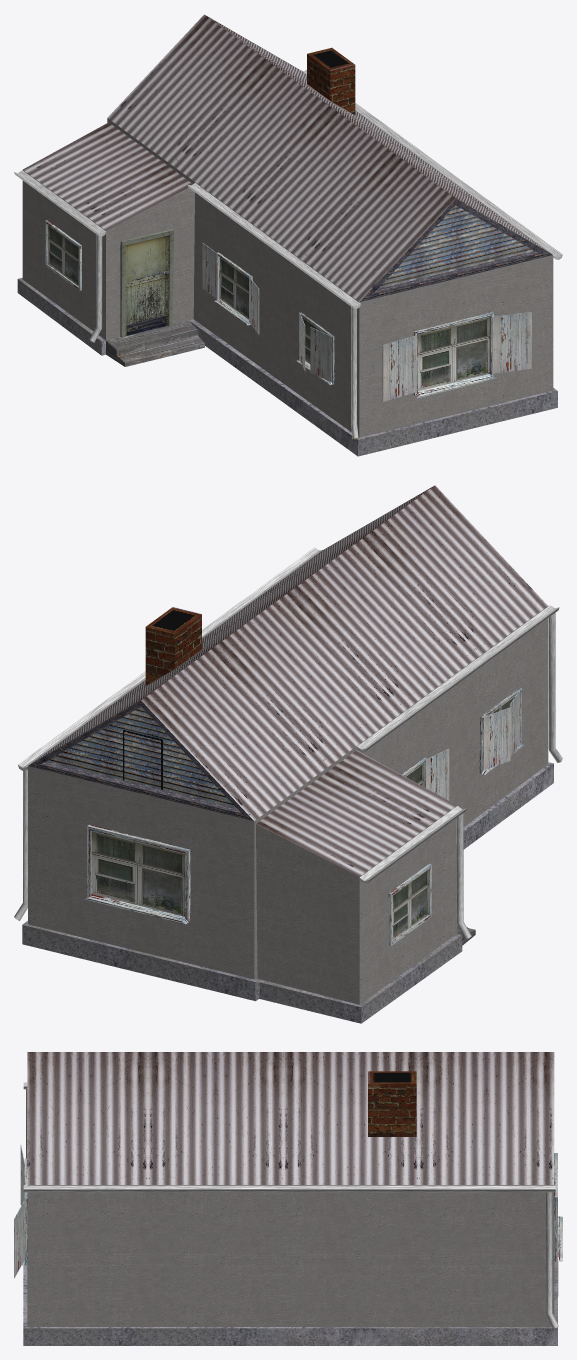
Rendered from cottage2.obj.
3 renders of one model, top to bottom at view 1: azimuth 30°, elevation 25°; view 2: azimuth 150°, elevation 25°; view 3: azimuth 270°, elevation 25°, orthographic. The views are drawn at different scales.
Parts seen in each view (by area): view 1: house-low-rus-obj; view 2: house-low-rus-obj; view 3: house-low-rus-obj.
Boxes of the visible parts, <box> form: house-low-rus-obj: <box>14,14,562,456</box>; house-low-rus-obj: <box>14,485,562,1023</box>; house-low-rus-obj: <box>14,1052,562,1345</box>.
Bounding box in the file's own units: 191 × 138 × 283.
Materials: 1 (1 with a texture image).
